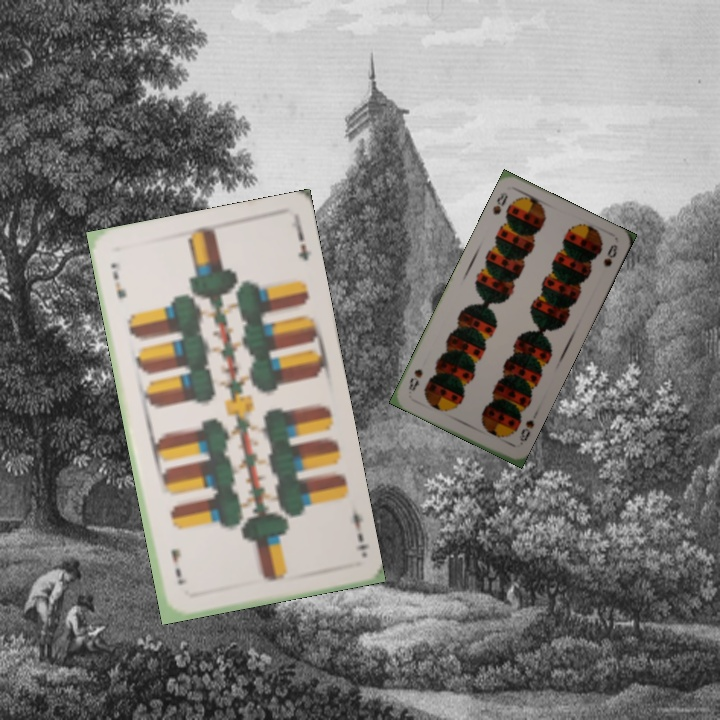E7: (347, 501, 371, 553), (106, 259, 129, 301)
S8: (515, 416, 537, 448), (488, 190, 511, 217)
